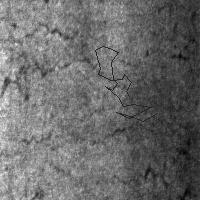crazing: (1, 24, 127, 101), (16, 120, 189, 156), (95, 46, 157, 121), (113, 152, 177, 188)
